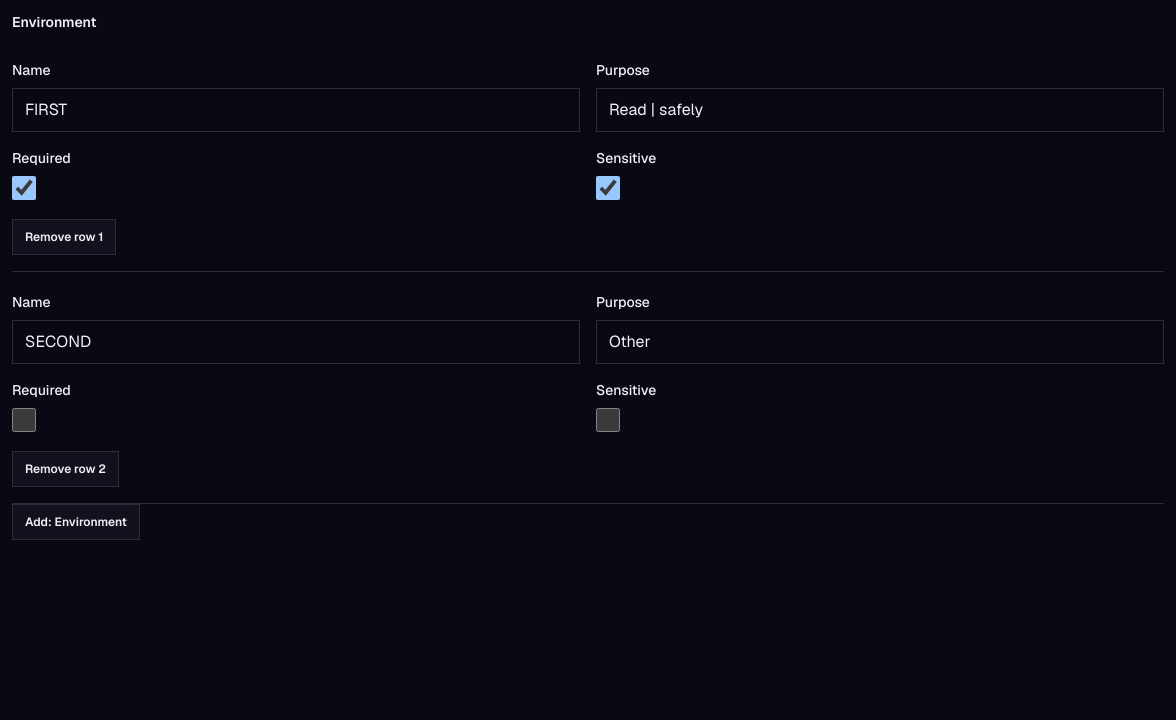
Scenario: structured declarations › preserves punctuation and booleans without pipe syntax and removes only the selected row
Replace the text in the 1st field labelled "Purpose" with "Read | write, safely" at (880, 110), box [596,88,1164,132]
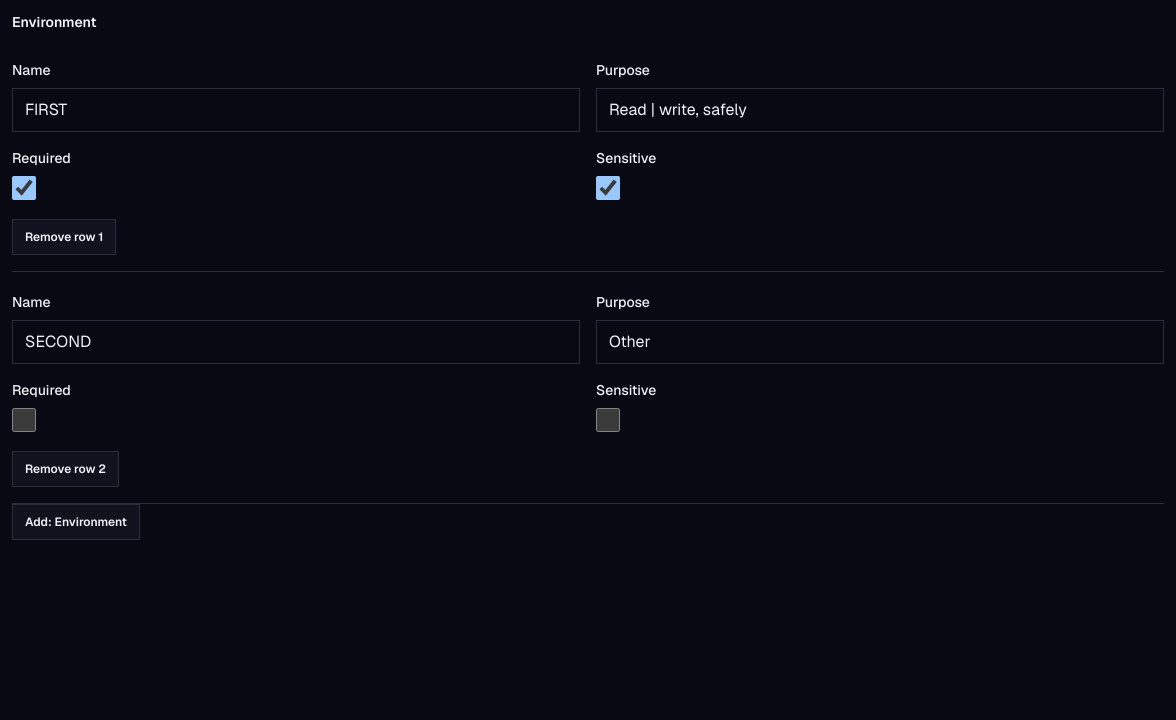
Click the button "Remove row 1" at (64, 237), box [12,219,116,255]
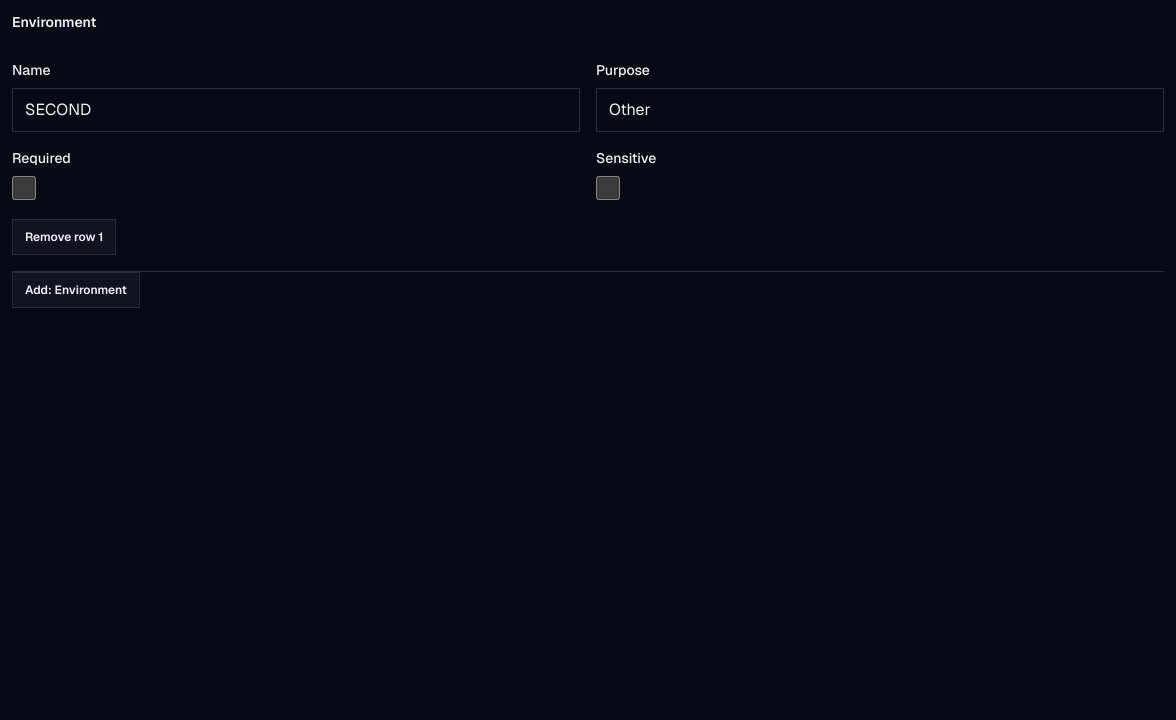
Now the field labelled "Name" holds "SECOND", box [12,88,580,132]
